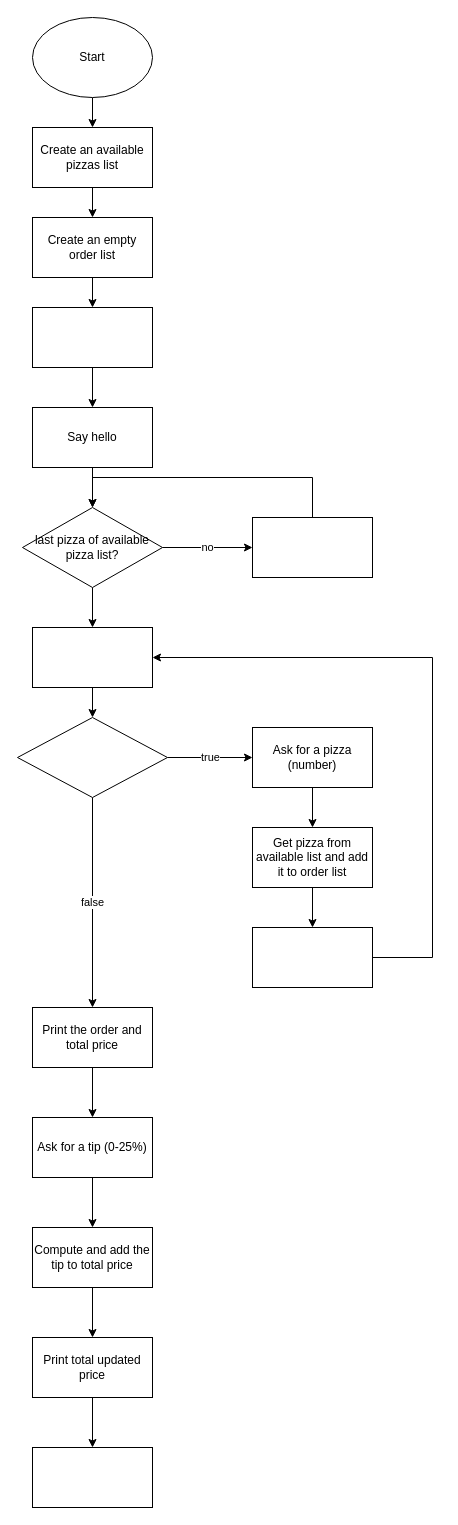
The diagram is 458 pixels wide and 1525 high, and some of its shapes have lost their labels. Here are the shapes that lost their labels. From the top down, the centre of each, then its label:
the point at 92,337: Initialize total price to 0
the point at 312,547: print index and pizza
the point at 92,657: Ask if the user wants to order a pizza (yes/no)
the point at 92,757: answer is "yes"?
the point at 312,957: Add 10 to total price
the point at 92,1477: Say that the pizzas are on the way
